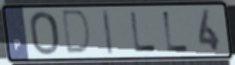4: (197, 7, 222, 54)
D: (62, 9, 94, 58)
I: (100, 8, 115, 57)
L: (161, 9, 191, 53), (129, 11, 158, 54)
O: (28, 10, 61, 57)
